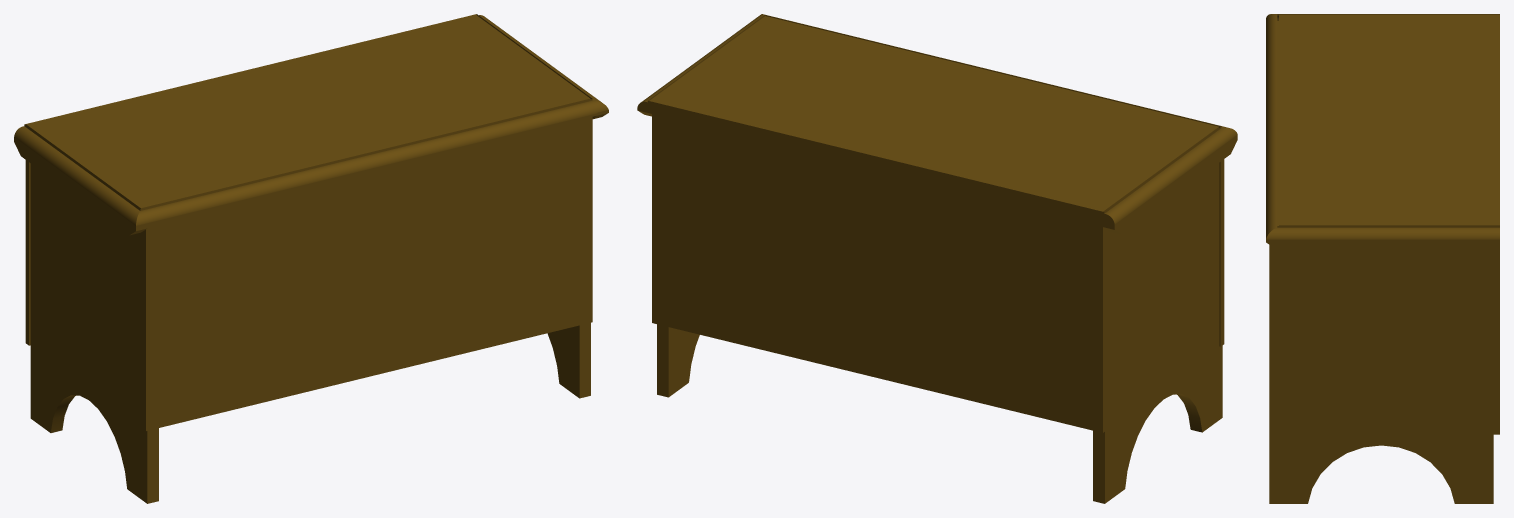
3 views of the same model, side by side, from view 1: azimuth 30°, elevation 25°; view 2: azimuth 150°, elevation 25°; view 3: azimuth 270°, elevation 25° (orthographic). The views are drawn at different scales.
Visible parts, largest first — view 1: mesh1_mesh1-geometry, mesh21_mesh21-geometry, mesh7_mesh7-geometry, mesh17_mesh17-geometry, mesh5_mesh5-geometry, mesh23_mesh23-geometry, mesh9_mesh9-geometry; view 2: mesh9_mesh9-geometry, mesh21_mesh21-geometry, mesh7_mesh7-geometry, mesh17_mesh17-geometry, mesh5_mesh5-geometry, mesh23_mesh23-geometry, mesh1_mesh1-geometry; view 3: mesh5_mesh5-geometry, mesh21_mesh21-geometry, mesh17_mesh17-geometry, mesh23_mesh23-geometry, mesh1_mesh1-geometry, mesh9_mesh9-geometry.
Boxes of the visible parts, x1,y1,x2,y2 form: mesh1_mesh1-geometry: [142, 117, 592, 430]; mesh21_mesh21-geometry: [25, 14, 590, 209]; mesh7_mesh7-geometry: [30, 163, 158, 503]; mesh17_mesh17-geometry: [14, 14, 608, 227]; mesh5_mesh5-geometry: [547, 322, 590, 398]; mesh23_mesh23-geometry: [14, 110, 608, 235]; mesh9_mesh9-geometry: [25, 160, 30, 345]; mesh9_mesh9-geometry: [652, 114, 1106, 432]; mesh21_mesh21-geometry: [649, 16, 1218, 223]; mesh7_mesh7-geometry: [1093, 163, 1222, 503]; mesh17_mesh17-geometry: [637, 14, 1237, 226]; mesh5_mesh5-geometry: [657, 324, 699, 397]; mesh23_mesh23-geometry: [637, 107, 1237, 233]; mesh1_mesh1-geometry: [1219, 159, 1224, 346]; mesh5_mesh5-geometry: [1269, 247, 1493, 503]; mesh21_mesh21-geometry: [1279, 14, 1499, 225]; mesh17_mesh17-geometry: [1266, 14, 1499, 242]; mesh23_mesh23-geometry: [1266, 21, 1499, 251]; mesh1_mesh1-geometry: [1269, 32, 1278, 434]; mesh9_mesh9-geometry: [1493, 242, 1499, 434].
Bounding box in the file's own units: 0.8036 × 0.4748 × 0.3585.
